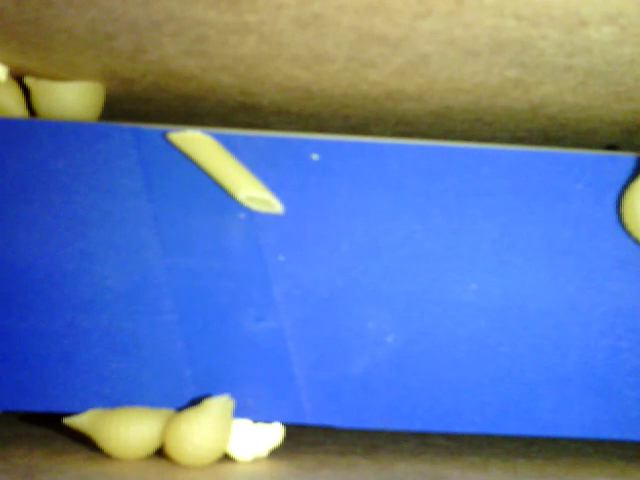penne: (164, 128, 286, 216)
shell: (61, 407, 176, 460), (160, 392, 240, 466), (24, 75, 105, 126)
